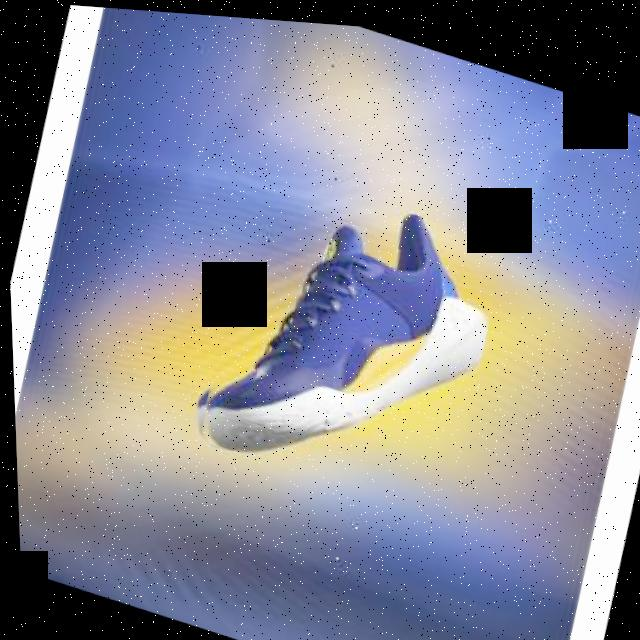shoe: (178, 153, 512, 517)
